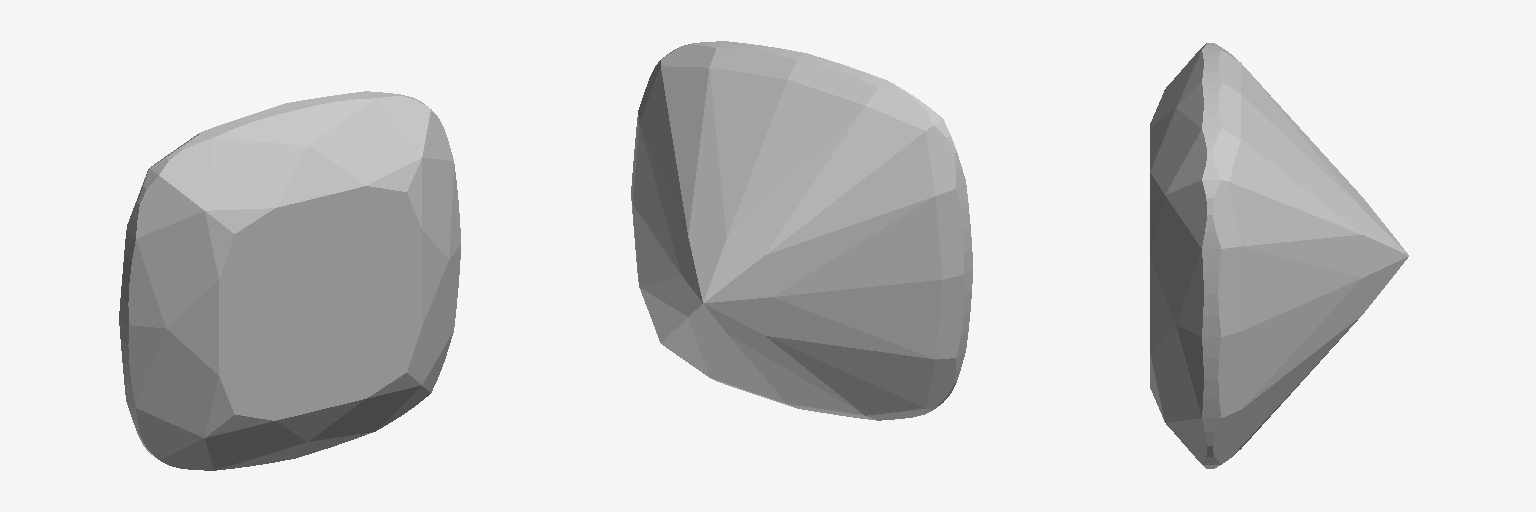
Rendered from cushion_square.obj.
The picture shows the model from 3 angles: view 1: azimuth 30°, elevation 25°; view 2: azimuth 150°, elevation 25°; view 3: azimuth 270°, elevation 25°; orthographic projection.
Bounding box in the file's own units: 6 × 6 × 4.05.